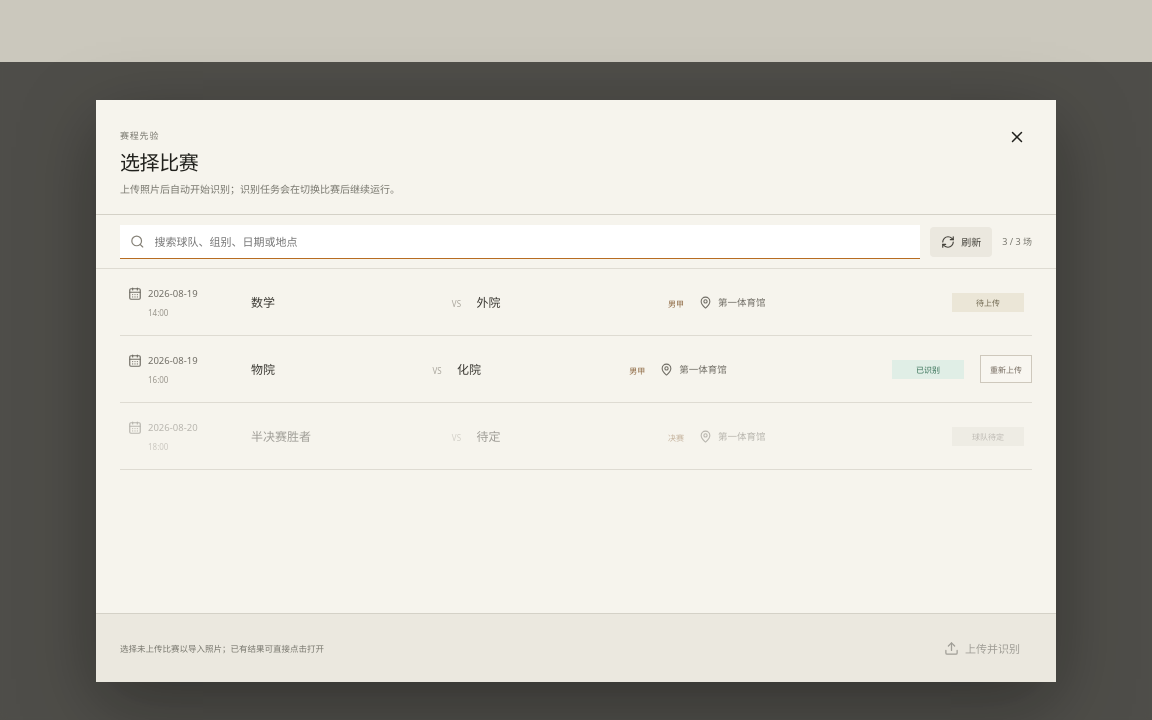
it: game browser › filters games and prevents uploads for unresolved placeholders
Check: the button "2026-08-20 18:00 半决赛胜者 VS 待定 决赛 第一体育馆 球队待定" is disabled, box [120,403,1032,469]
Type "数学" into the field with placeholder "搜索球队、组别、日期或地点" at coordinates (532, 241), box [153,232,910,250]
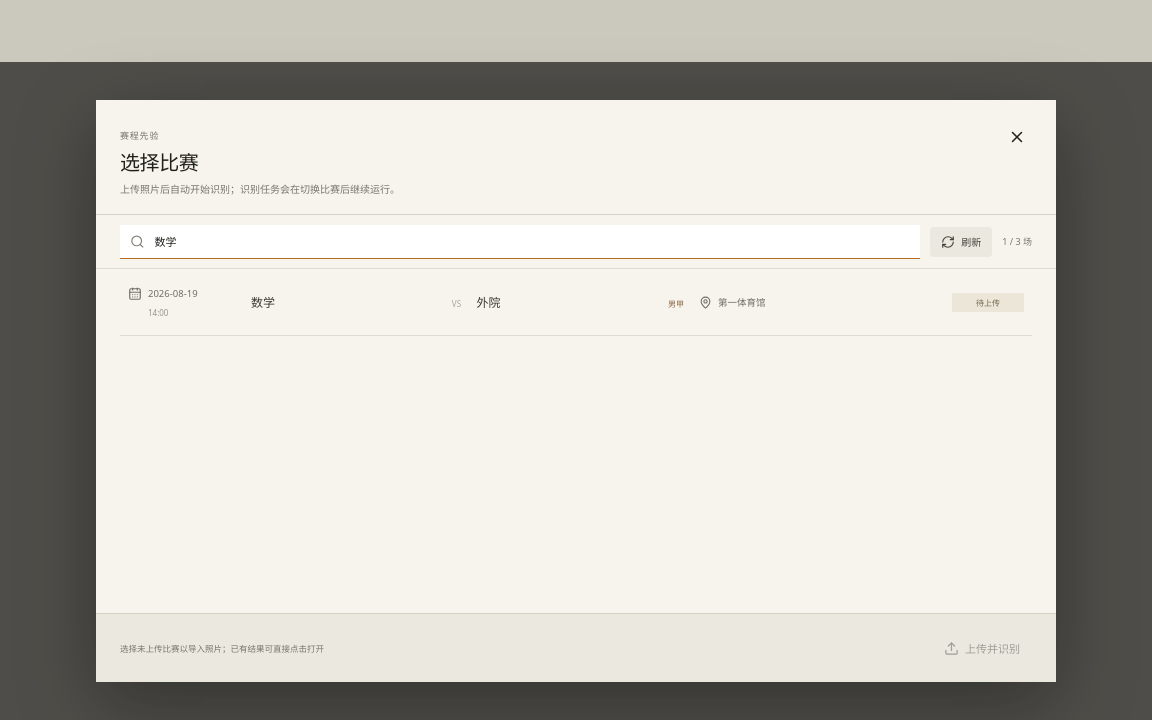
Check: the button "2026-08-19 14:00 数学 VS 外院 男甲 第一体育馆 待上传" is shown, box [120,269,1032,335]
Check: the button "半决赛胜者" is gone
